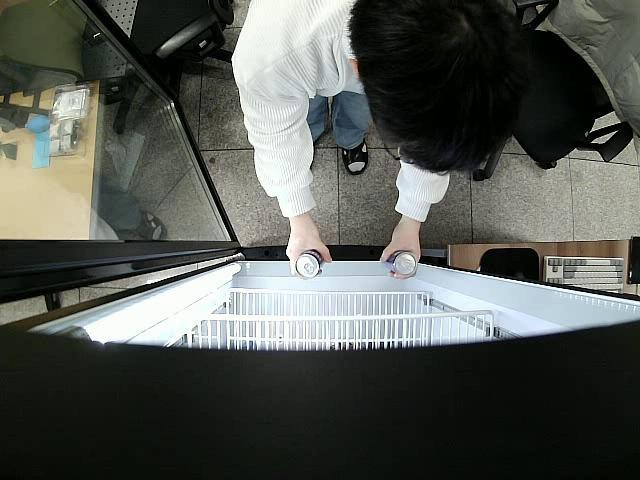16_hot6: (296, 247, 324, 278), (385, 252, 416, 278)
